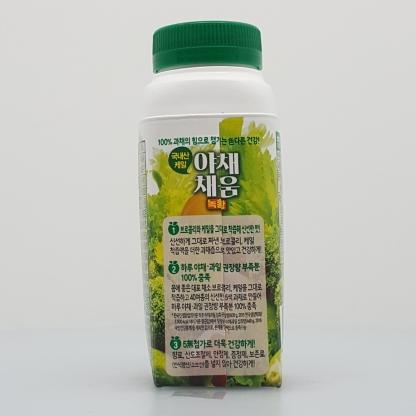---------190ML: (136, 20, 284, 389)
